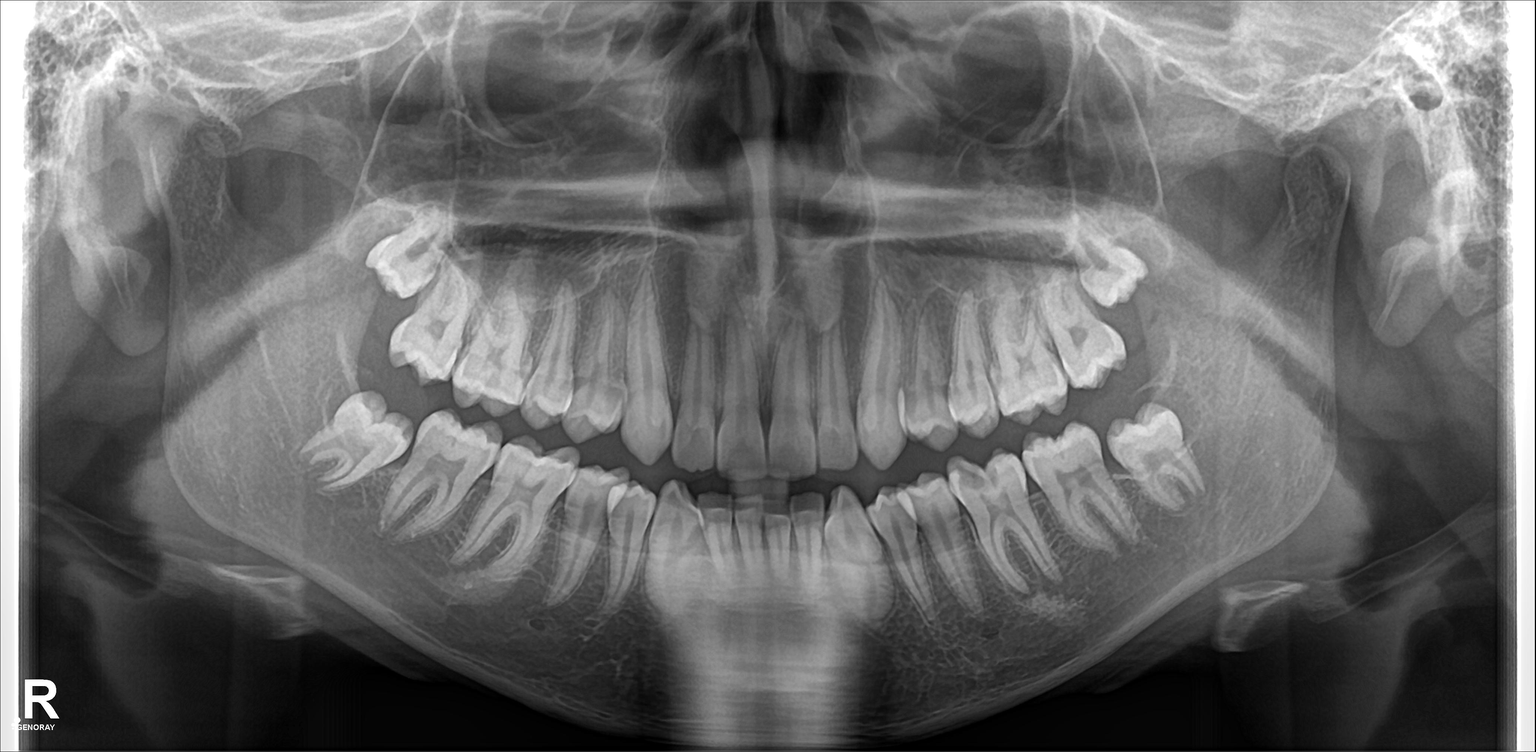Dental Caries: (953, 469, 994, 496)
Impacted Third Molar: (1102, 415, 1208, 498), (304, 408, 408, 481), (365, 222, 439, 298), (1073, 242, 1152, 300)
